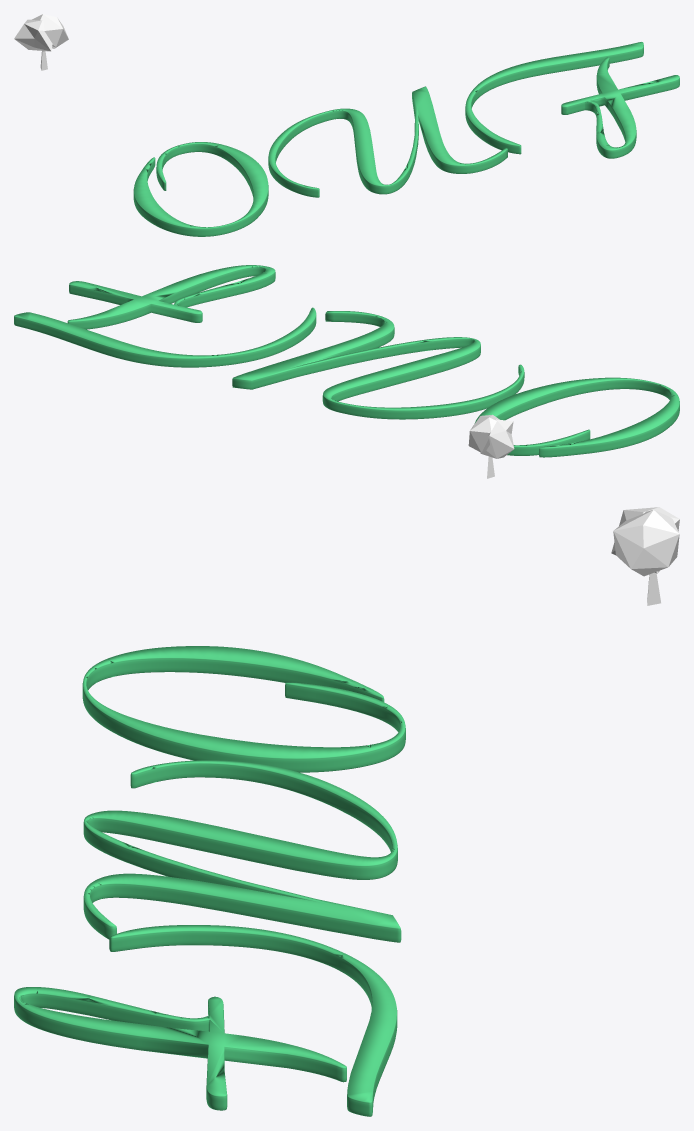
The model's file is ouf3.obj.
The picture shows the model from 3 angles, top to bottom: view 1: azimuth 30°, elevation 25°; view 2: azimuth 150°, elevation 25°; view 3: azimuth 270°, elevation 25°; orthographic projection. The views are drawn at different scales.
Parts seen in each view (by area): view 1: Text001, tree_original_010; view 2: Text001, tree_original_010; view 3: Text001, tree_original_010.
Part boxes in pixels (x1,y1,x2,y2): Text001: (133,42,679,236); tree_original_010: (14,14,68,70); Text001: (14,265,679,457); tree_original_010: (468,414,514,478); Text001: (14,646,405,1116); tree_original_010: (611,507,679,605).
Bounding box in the file's own units: 203 × 36.28 × 125.
